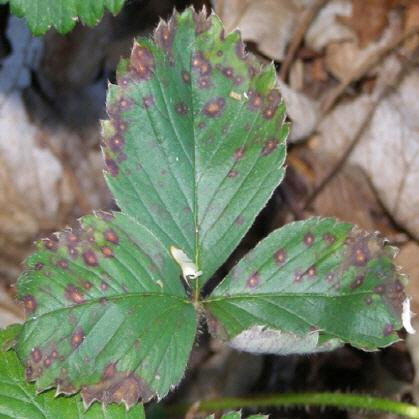Leaf Spot: (98, 3, 290, 295), (0, 208, 198, 412), (200, 214, 410, 355)
